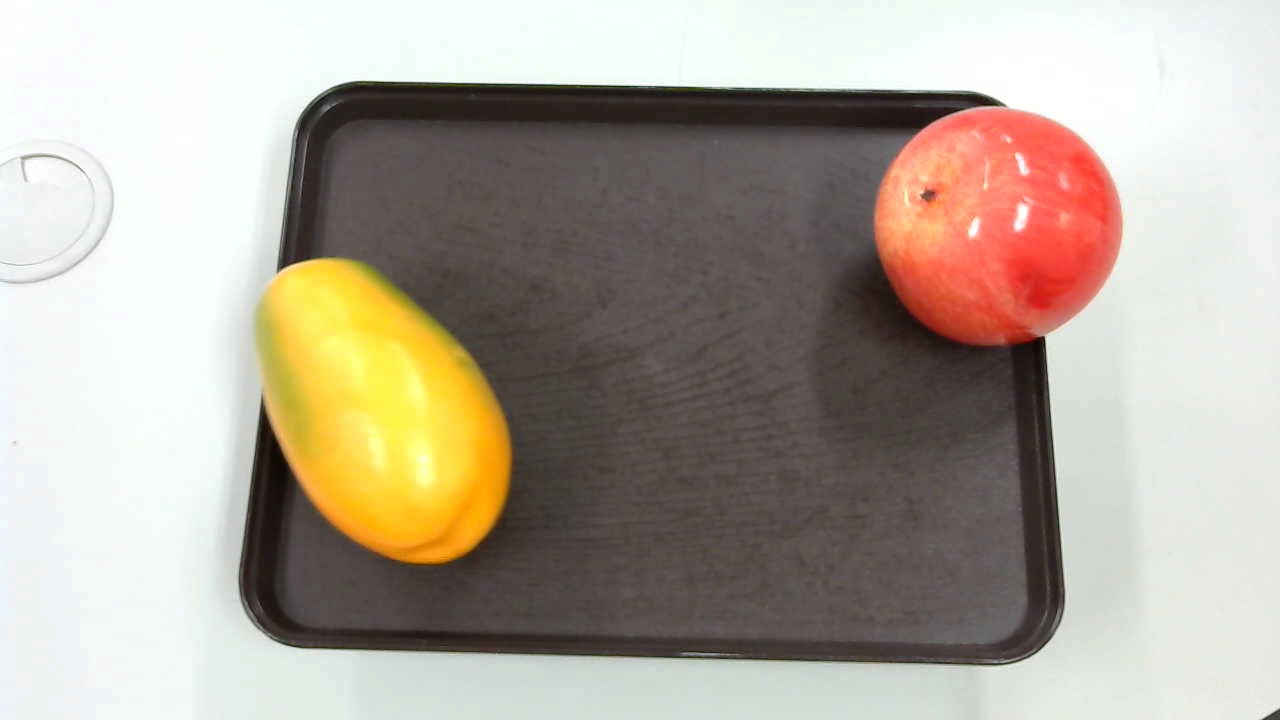papya: (247, 258, 510, 570)
red apple: (869, 103, 1130, 354)
